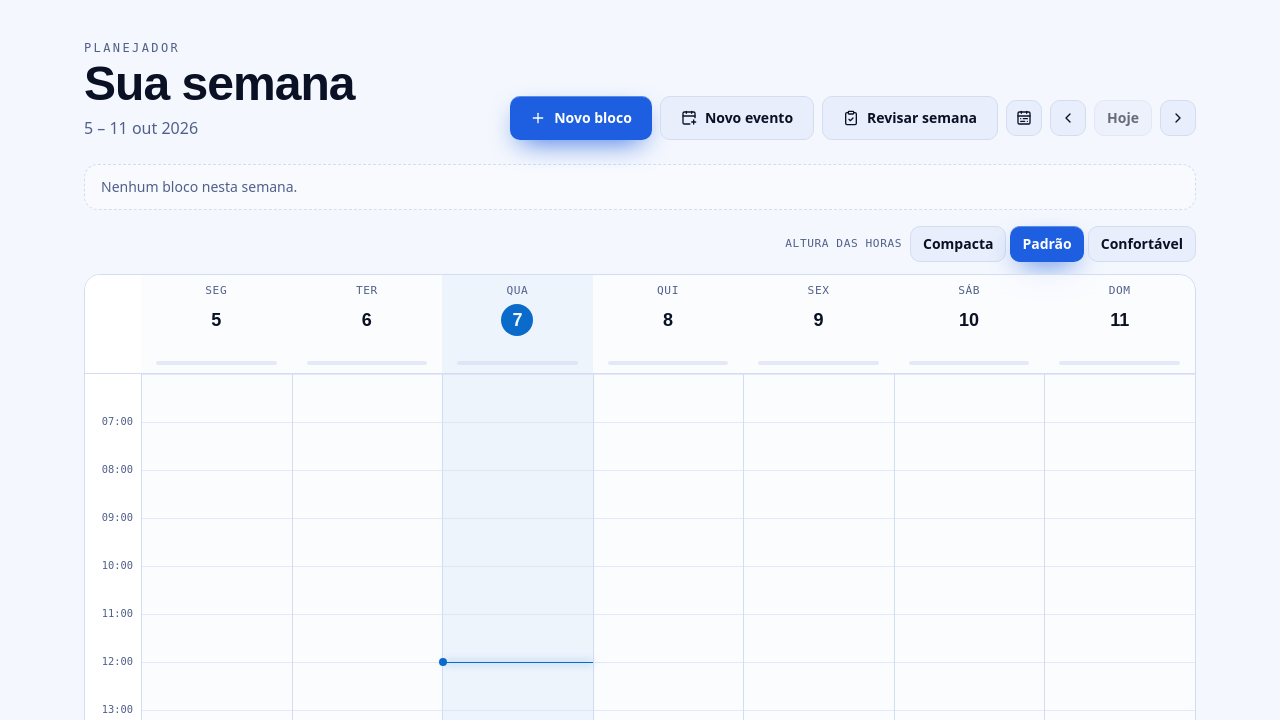
Test: WeekPage › navegação entre semanas › "Hoje" volta para a semana atual e fica desabilitado quando já está nela
Expected: the button "Hoje" is disabled, [1094,100,1152,136]
Click the button named "Próxima semana".
click(1178, 118)  # box [1160,100,1196,136]
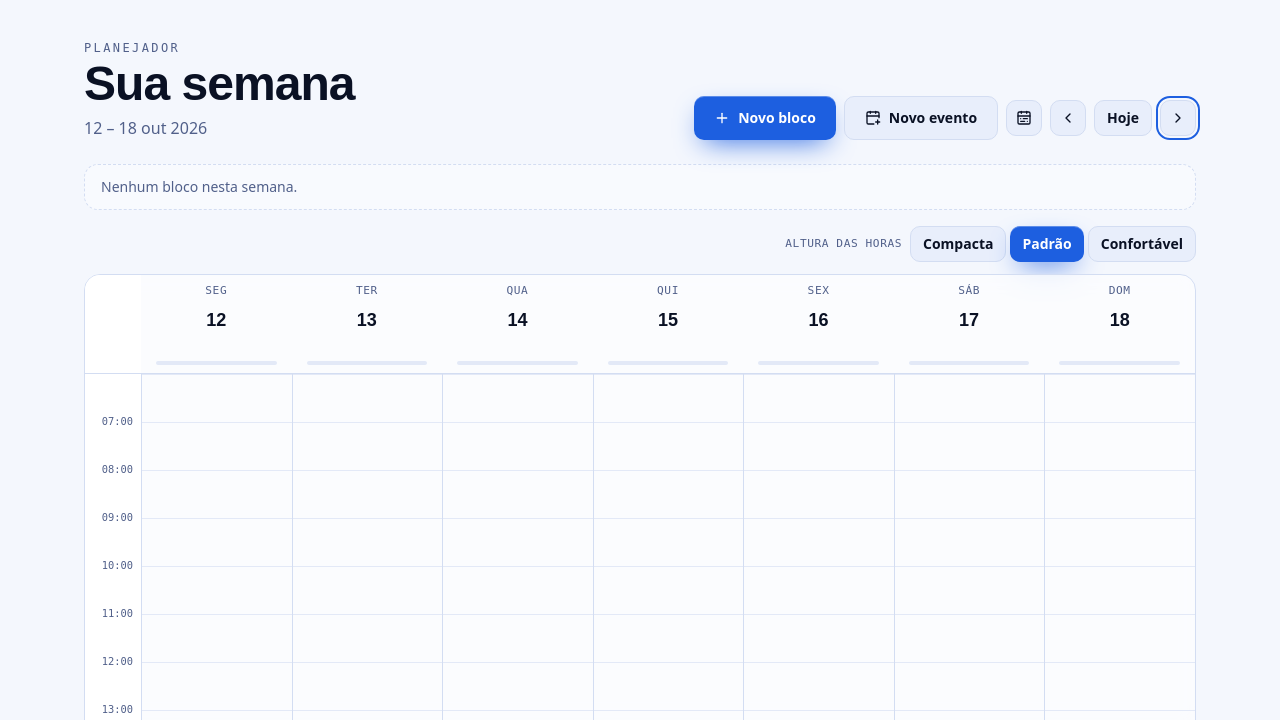
Expected: the text "12 – 18 out 2026" is shown, [84,117,207,139]
Expected: the button "Hoje" is enabled
Click the button "Hoje".
click(1123, 118)  # box [1094,100,1152,136]
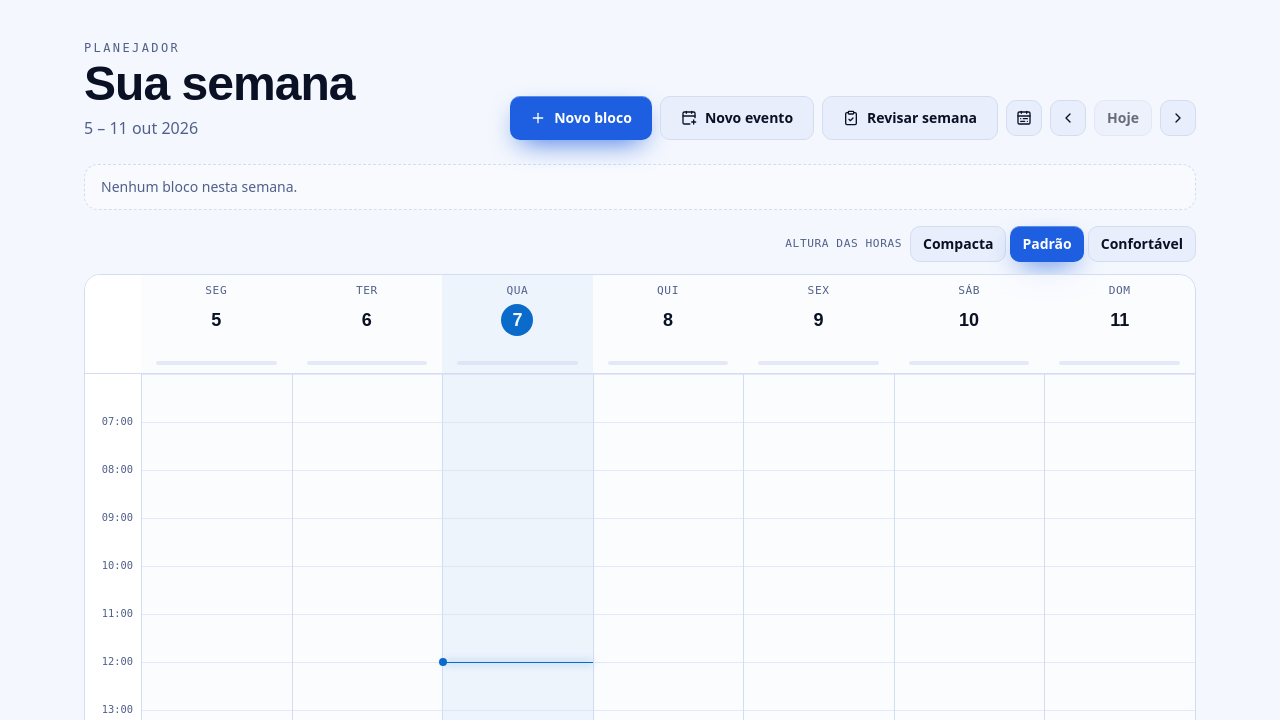
Expected: the text "5 – 11 out 2026" is shown, [84,117,198,139]
Expected: the button "Hoje" is disabled, [1094,100,1152,136]
